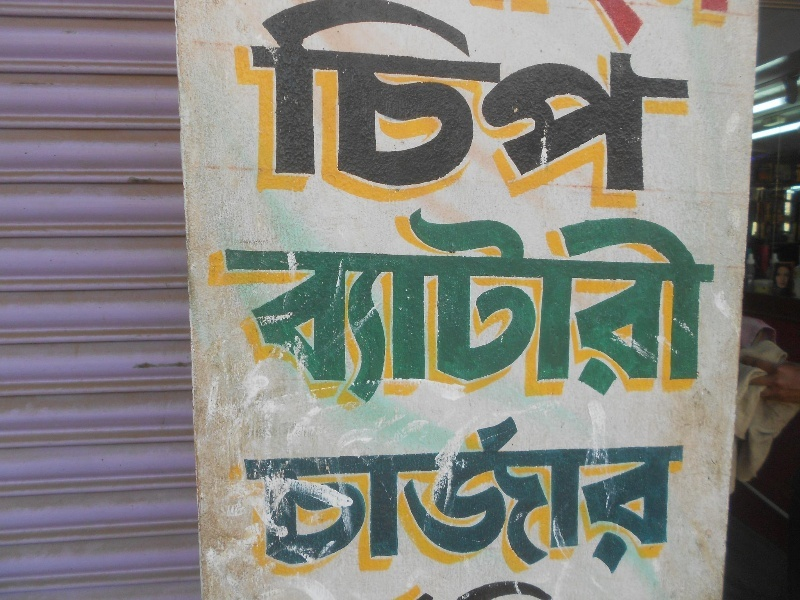text: (257, 2, 272, 213), (273, 2, 288, 213), (289, 2, 304, 213), (305, 2, 320, 213), (321, 2, 336, 213), (337, 2, 352, 213), (353, 2, 368, 213), (369, 2, 384, 213), (385, 2, 400, 213), (401, 2, 416, 213), (417, 2, 432, 213), (433, 2, 448, 213), (449, 2, 464, 213), (465, 2, 480, 213), (481, 2, 496, 213), (497, 2, 512, 213), (513, 2, 528, 213), (529, 2, 544, 213), (545, 2, 560, 213), (561, 2, 576, 213), (577, 2, 592, 213), (593, 2, 608, 213), (609, 2, 624, 213), (625, 2, 640, 213), (641, 2, 656, 213), (657, 2, 672, 213), (673, 2, 688, 213), (705, 211, 721, 408), (225, 211, 240, 408), (241, 211, 256, 408), (257, 211, 272, 408), (273, 211, 288, 408), (289, 211, 304, 408), (305, 211, 320, 408), (321, 211, 336, 408), (337, 211, 352, 408), (353, 211, 368, 408), (369, 211, 384, 408), (385, 211, 400, 408), (401, 211, 416, 408), (417, 211, 432, 408), (433, 211, 448, 408), (449, 211, 464, 408), (465, 211, 480, 408), (481, 211, 496, 408), (497, 211, 512, 408), (513, 211, 528, 408), (529, 211, 544, 408), (545, 211, 560, 408), (561, 211, 576, 408), (577, 211, 592, 408), (593, 211, 608, 408), (609, 211, 624, 408), (625, 211, 640, 408), (641, 211, 656, 408), (657, 211, 672, 408), (673, 211, 688, 408), (689, 211, 704, 408), (257, 405, 272, 577), (273, 405, 288, 577), (289, 405, 304, 577), (305, 405, 320, 577), (321, 405, 336, 577), (337, 405, 352, 577), (353, 405, 368, 577), (369, 405, 384, 577), (385, 405, 400, 577), (401, 405, 416, 577), (417, 405, 432, 577), (433, 405, 448, 577), (449, 405, 464, 577), (465, 405, 480, 577), (481, 405, 496, 577), (497, 405, 512, 577), (513, 405, 528, 577), (529, 405, 544, 577), (545, 405, 560, 577), (561, 405, 576, 577), (577, 405, 592, 577), (593, 405, 608, 577), (609, 405, 624, 577), (625, 405, 640, 577), (641, 405, 656, 577), (657, 405, 672, 577), (673, 405, 686, 577), (251, 2, 256, 213), (251, 405, 256, 577), (465, 1, 480, 51), (481, 1, 496, 51), (497, 1, 512, 51), (513, 1, 528, 51), (529, 1, 544, 51), (545, 1, 560, 51), (561, 1, 576, 51), (577, 1, 592, 51), (593, 1, 608, 51), (609, 1, 624, 51), (625, 1, 640, 51), (641, 1, 656, 51), (657, 1, 672, 51), (673, 1, 688, 51), (689, 1, 704, 51), (705, 1, 720, 51), (721, 1, 736, 51), (451, 1, 464, 51), (737, 1, 749, 51), (753, 258, 768, 293), (769, 258, 784, 293), (785, 258, 798, 293), (401, 577, 416, 599), (417, 577, 432, 599), (433, 577, 448, 599), (449, 577, 464, 599), (465, 577, 480, 599), (481, 577, 496, 599), (497, 577, 512, 599), (513, 577, 528, 599), (529, 577, 544, 599), (545, 577, 560, 599), (561, 577, 576, 599), (577, 577, 592, 599), (593, 577, 608, 599), (609, 577, 624, 599), (625, 577, 639, 599), (689, 2, 690, 213), (393, 577, 400, 599), (748, 258, 752, 293)
